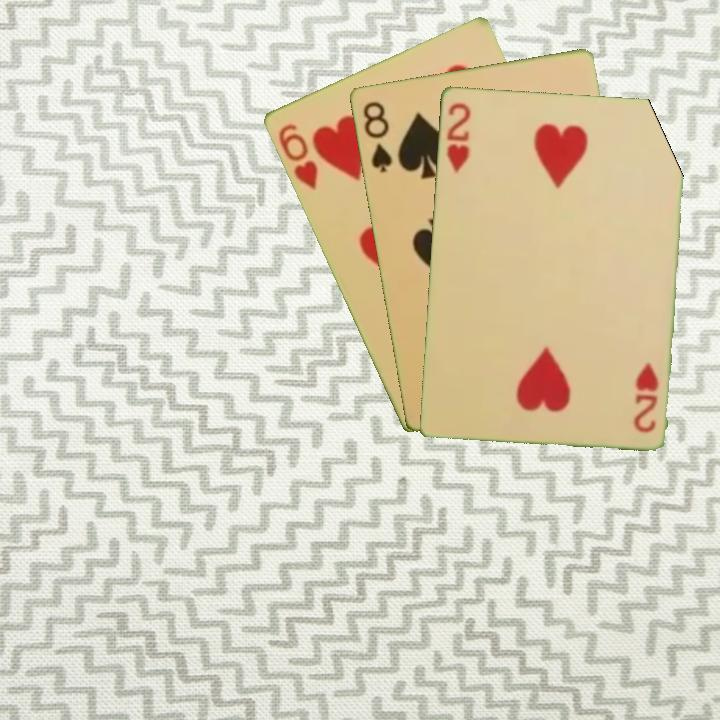2h: (442, 98, 473, 176), (630, 358, 661, 435)
6h: (274, 119, 321, 193)
8s: (359, 97, 395, 175)
